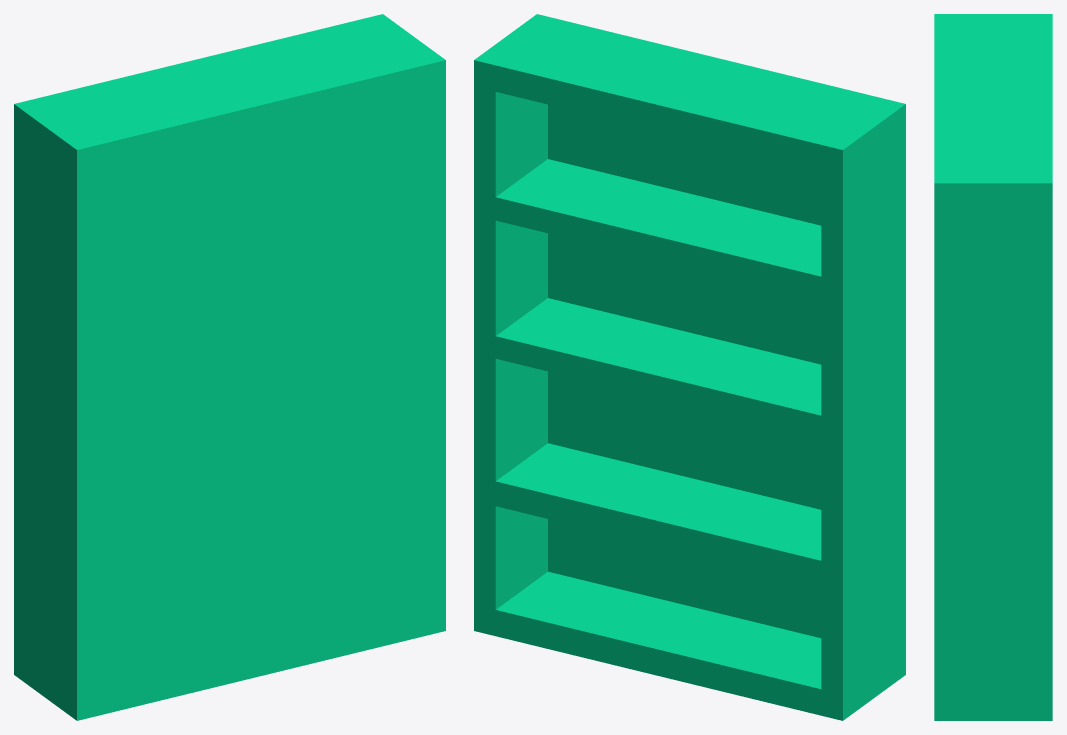
The model's file is bookshelf.fbx.
3 views of the same model, side by side, from view 1: azimuth 30°, elevation 25°; view 2: azimuth 150°, elevation 25°; view 3: azimuth 270°, elevation 25° (orthographic). The views are drawn at different scales.
Parts seen in each view (by area): view 1: pCube1; view 2: pCube1; view 3: pCube1.
Boxes of the visible parts, x1=… form: pCube1: x1=14, y1=14, x2=445, y2=720; pCube1: x1=474, y1=14, x2=905, y2=720; pCube1: x1=934, y1=14, x2=1052, y2=720.
Bounding box in the file's own units: 22.01 × 32.55 × 6.51.
